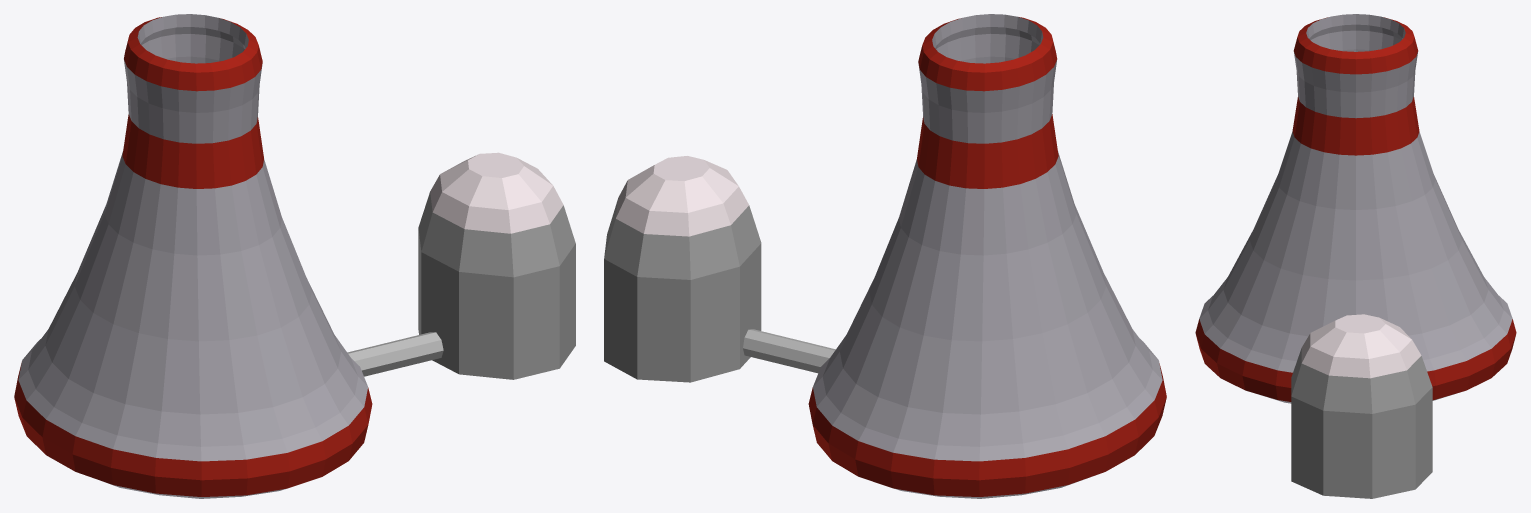
The model's file is atomine1.fbx.
The picture shows the model from 3 angles, left to right: view 1: azimuth 30°, elevation 25°; view 2: azimuth 150°, elevation 25°; view 3: azimuth 270°, elevation 25°; orthographic projection. The views are drawn at different scales.
Visible parts, largest first — view 1: cooling tower; view 2: cooling tower; view 3: cooling tower.
Part boxes in pixels (bbox=[...]): cooling tower: bbox=[14, 14, 575, 498]; cooling tower: bbox=[604, 14, 1166, 498]; cooling tower: bbox=[1195, 14, 1516, 498].
Size of the model in its own units: 1400 by 1000 by 900.
